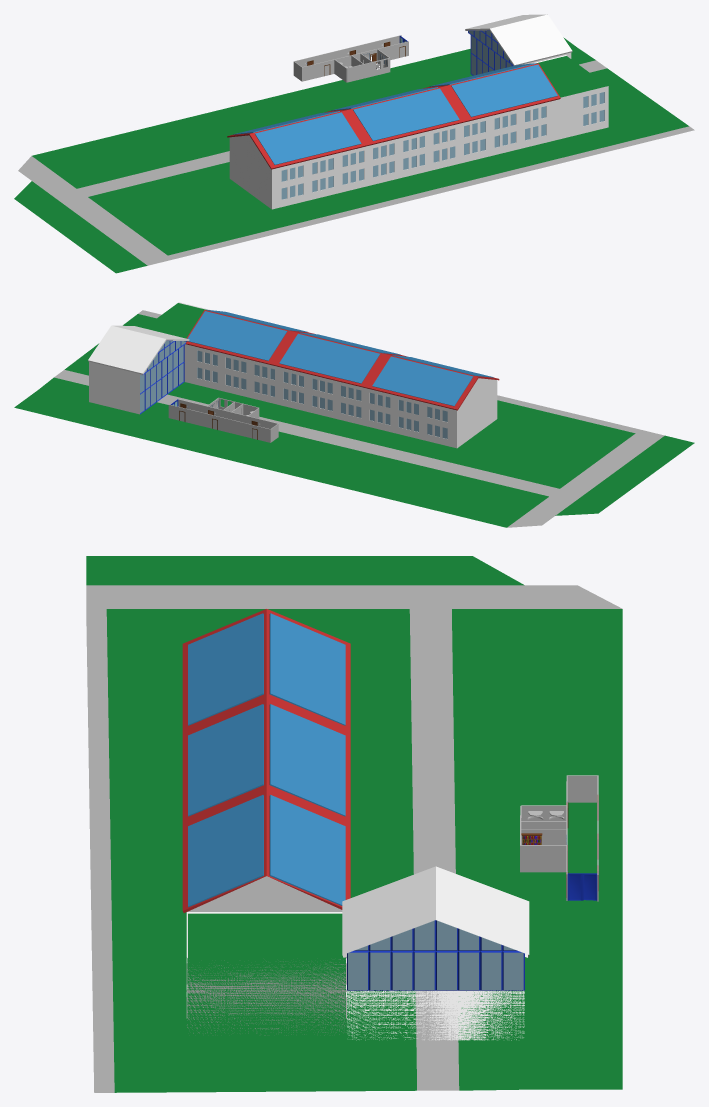
File: Level_1_export.fbx
The picture shows the model from 3 angles, top to bottom: view 1: azimuth 30°, elevation 25°; view 2: azimuth 150°, elevation 25°; view 3: azimuth 270°, elevation 25°; orthographic projection. The views are drawn at different scales.
Parts seen in each view (by area): view 1: Gelände, Campus_Center, Symmetrie, Room_1_2; view 2: Gelände, Campus_Center, Symmetrie, Room_1_2; view 3: Gelände, Campus_Center, Symmetrie, Room_1_2, Türen.
Part boxes in pixels (x1,y1,x2,y2): Gelände: (14,37,694,273); Campus_Center: (227,55,608,209); Symmetrie: (465,14,572,75); Room_1_2: (293,35,408,82); Gelände: (14,310,694,527); Campus_Center: (144,302,499,448); Symmetrie: (88,325,189,414); Room_1_2: (168,397,278,442); Gelände: (86,556,622,1092); Campus_Center: (182,609,350,1035); Symmetrie: (342,866,529,1040); Room_1_2: (520,775,598,901); Türen: (566,795,598,900).
Bounding box in the file's own units: 10709 × 1119 × 4523.
